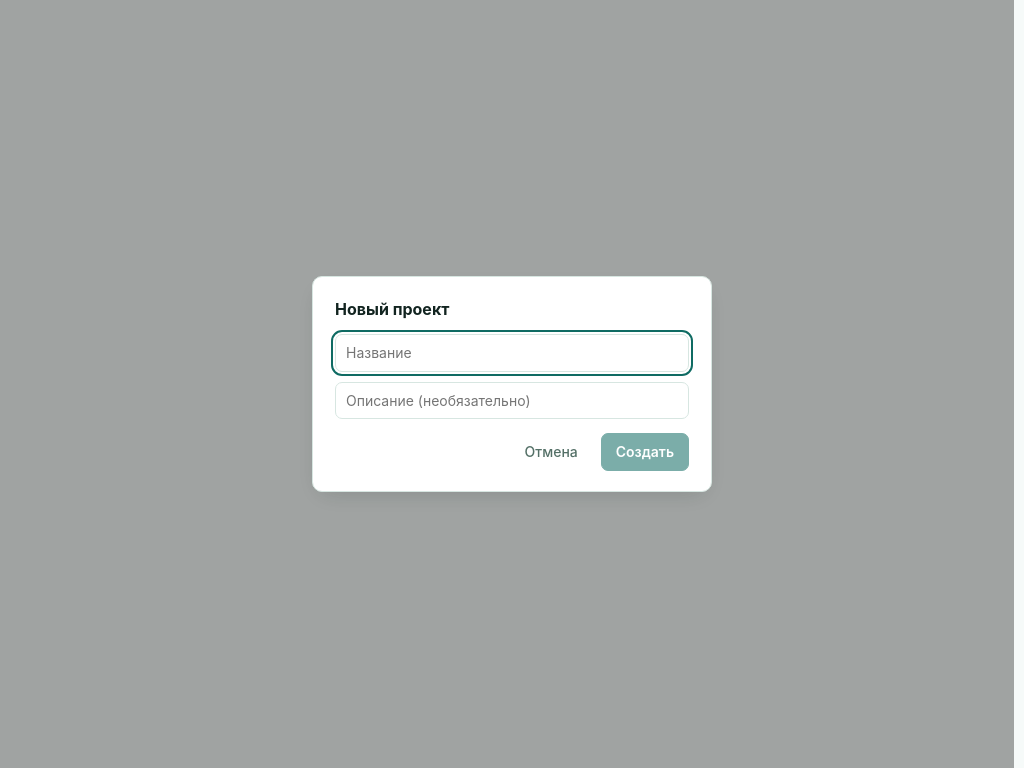
CreateProjectDialog › disables the submit button until a name is entered
Expected: the button "Создать" is disabled, x1=601 y1=433 x2=689 y2=471
Type "Ravenhollow" into the field with placeholder "Название". click: (512, 353)
box: x1=335 y1=334 x2=689 y2=372
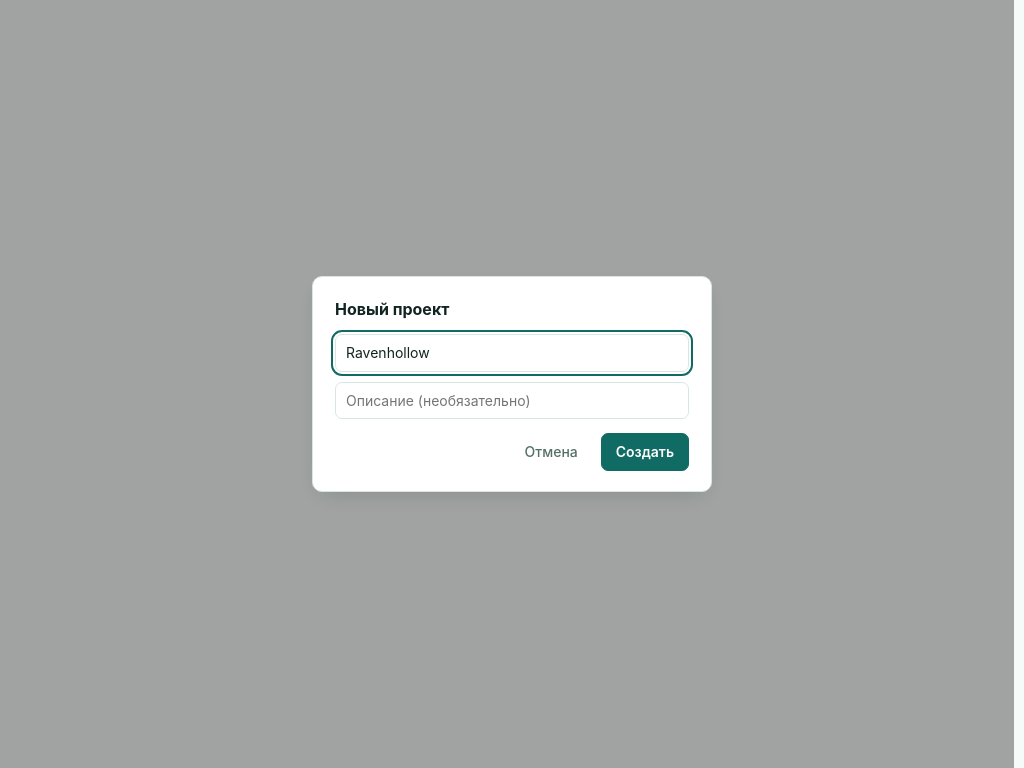
Expected: the button "Создать" is enabled, x1=601 y1=433 x2=689 y2=471
